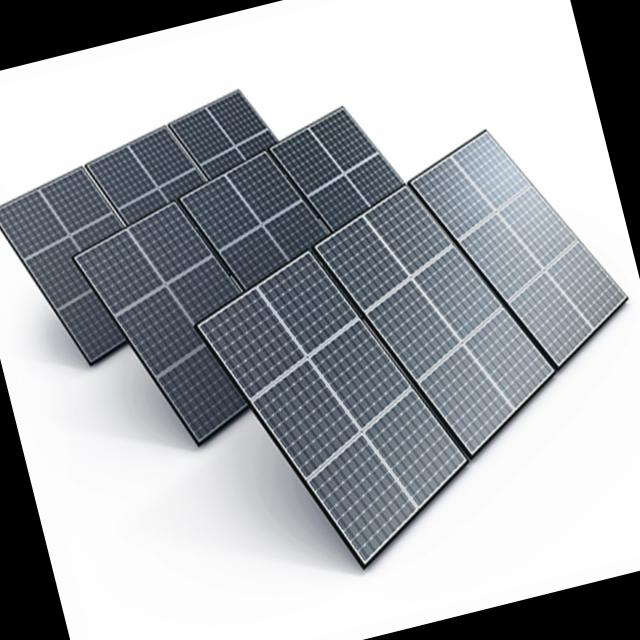no faulty: (198, 133, 631, 564), (69, 109, 407, 442), (0, 91, 276, 362)
